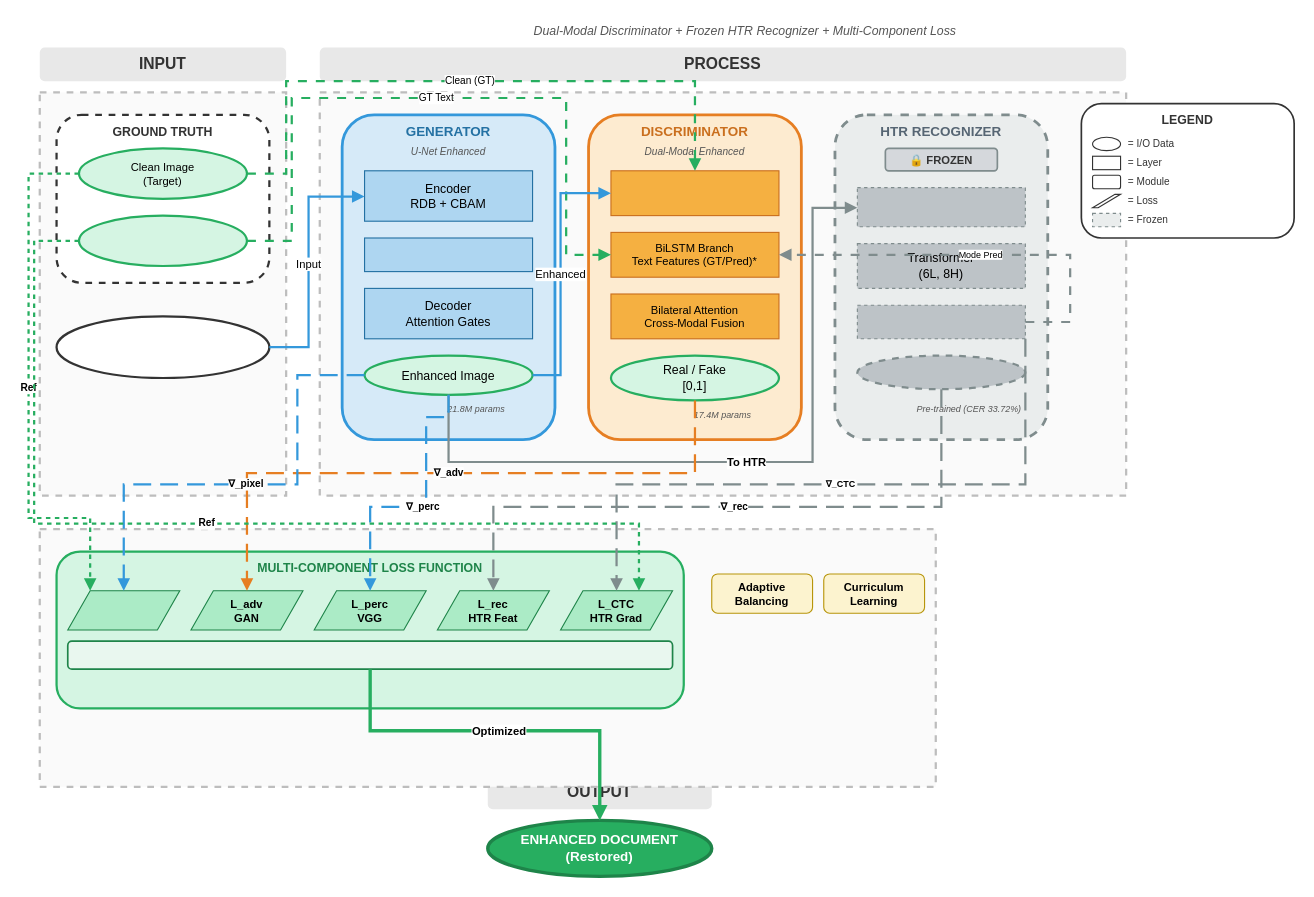
Some shapes in this 1314 by 897 pixel diagram are drawn without their labels. The shapes that lost their labels are listed below. From the top down, each one's centre as x and y in pixels, then its label:
point 694,193: CNN Branch Image Features
point 940,206: CNN Backbone
point 162,240: Ground Truth Text (Transcription)
point 448,254: Multi-Scale Fusion
point 940,321: CTC Decoder
point 162,347: Input Degraded Document
point 941,372: Feature Extraction
point 123,610: L_pixel MAE/L1
point 369,655: L_total = λ₁·L_pixel + λ₂·L_adv + λ₃·L_perc + λ₄·L_rec + λ₅·L_CTC
